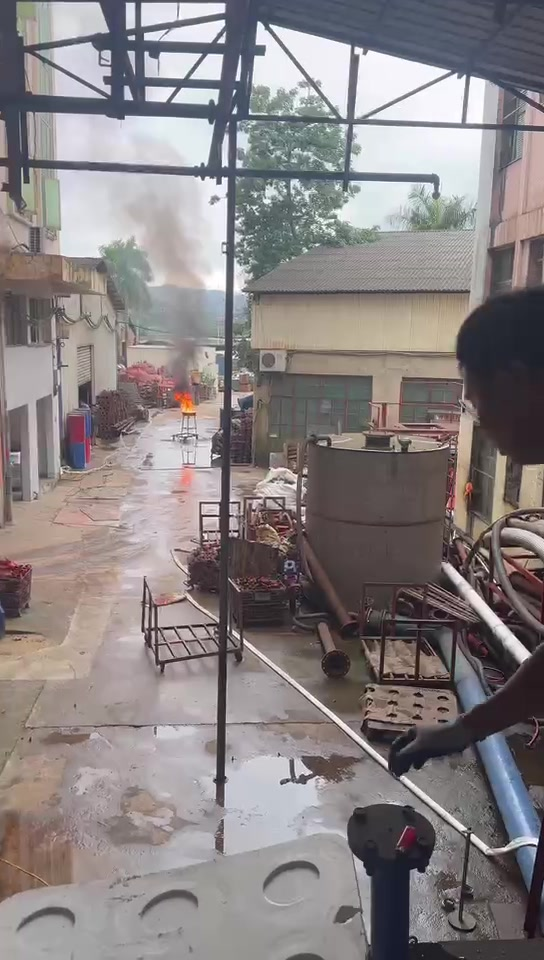fire: (175, 392, 193, 412)
